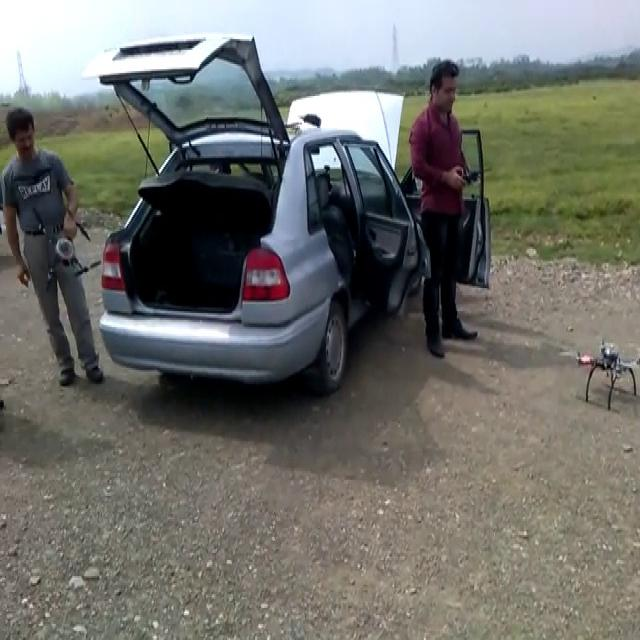drone: (574, 336, 638, 416)
